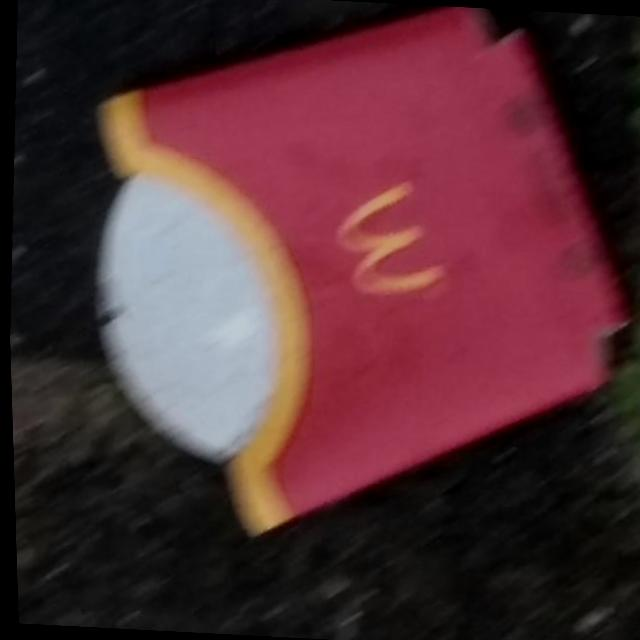Paper: (59, 0, 640, 561)
